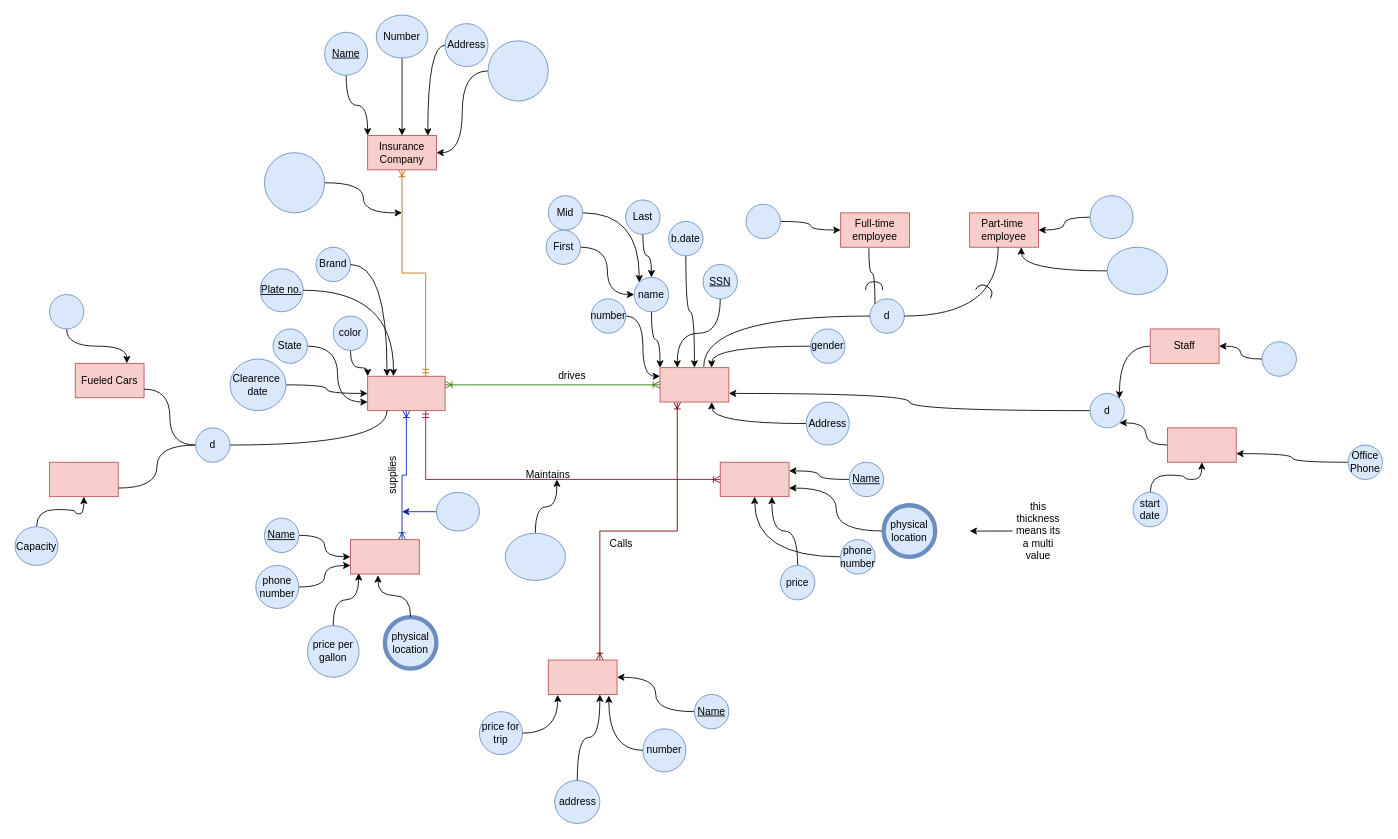
Image size: 1398x839. Some labels were removed from this diagram. The centre of each missing label's shape, as x and y in pixels:
"Car" goes at point 406,393.
"Coupon" goes at point 457,511.
"Electric Cars" goes at point 83,479.
"Employee" goes at point 694,384.
"fuel type" goes at point 66,311.
"Gas stations" goes at point 384,556.
"hours worked" goes at point 1111,217.
"Insurance date" goes at point 294,182.
"Insurance Price" goes at point 517,70.
"Maintenance Company" goes at point 754,479.
"maintenance date" goes at point 534,556.
"Major" goes at point 1278,358.
"Manager" goes at point 1201,444.
"salary" goes at point 762,221.
"Taxi Bureau" goes at point 582,676.
"wage/hour" goes at point 1136,270.
